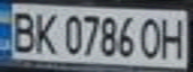0: (60, 10, 84, 56)
6: (115, 12, 139, 59)
7: (78, 11, 100, 57)
8: (100, 12, 121, 57)
B: (6, 8, 39, 54)
H: (157, 13, 190, 60)
K: (30, 8, 60, 55)
O: (136, 15, 163, 60)
